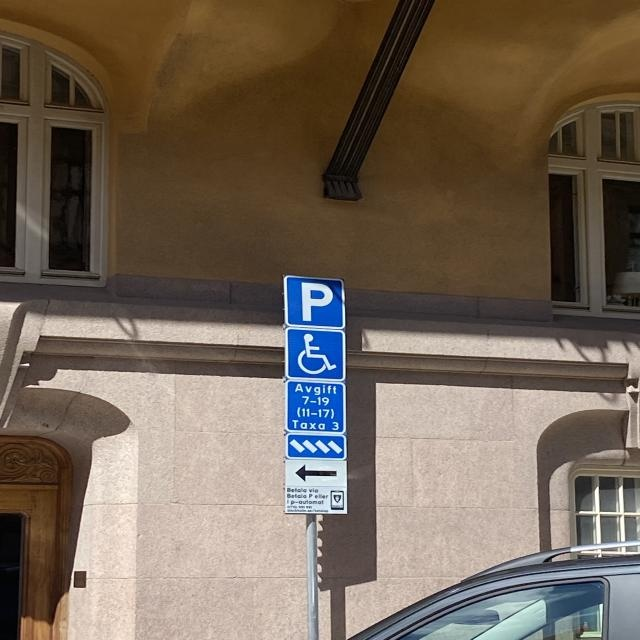P-skylt: (284, 274, 347, 329)
